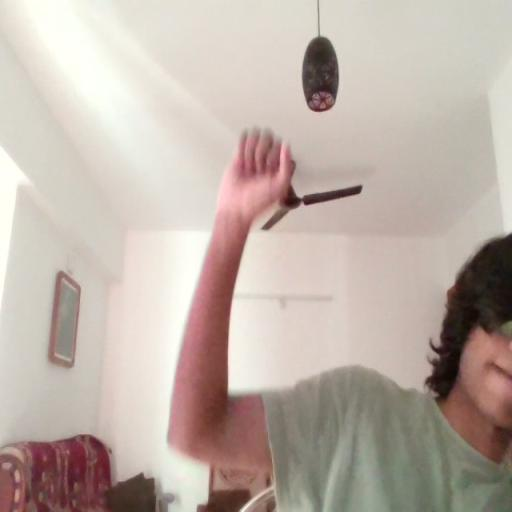Rock: (224, 127, 299, 232)
